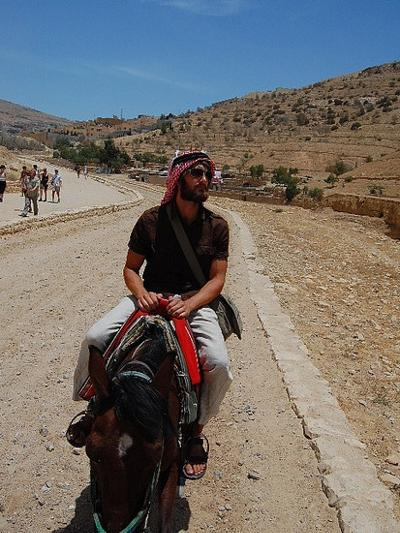person: (67, 149, 230, 482)
